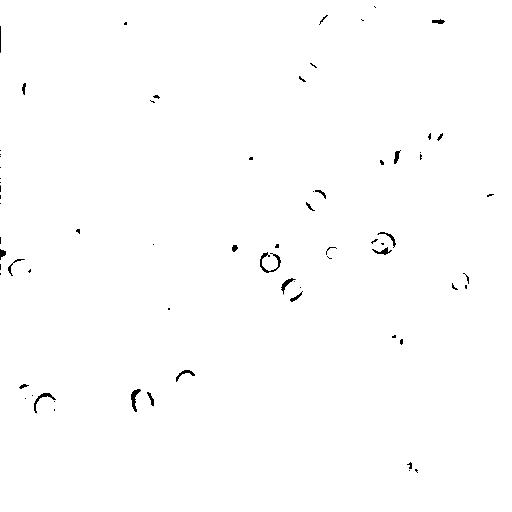micro-algae: (106, 374, 157, 423), (236, 141, 270, 181), (394, 138, 426, 180), (469, 167, 505, 199), (217, 230, 250, 263), (111, 7, 143, 41), (258, 226, 291, 258), (371, 141, 398, 176), (420, 6, 453, 33), (67, 217, 92, 251), (31, 390, 59, 419), (304, 187, 332, 215), (130, 386, 156, 416), (152, 299, 179, 325), (371, 230, 397, 257), (280, 277, 307, 302), (318, 11, 342, 39), (7, 257, 34, 281), (22, 75, 43, 105), (258, 250, 282, 276), (174, 369, 198, 393), (449, 268, 471, 294), (168, 0, 195, 20), (297, 61, 321, 83), (143, 224, 164, 249), (426, 120, 448, 143), (356, 4, 382, 23), (387, 332, 406, 356), (16, 382, 37, 401), (408, 457, 429, 475), (325, 245, 340, 260), (1, 244, 11, 263)
